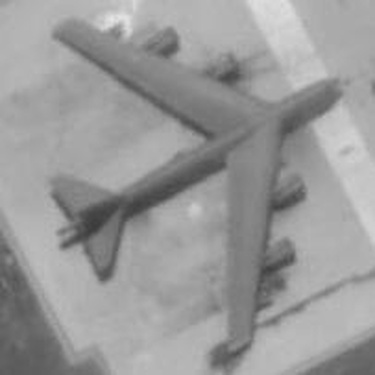airplane: (9, 8, 362, 360)
